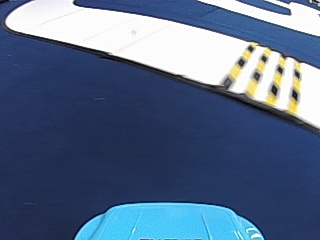bump: (222, 43, 300, 106)
